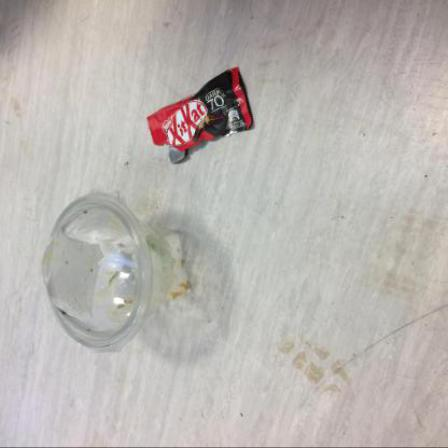Plastic bag - wrapper: (149, 69, 253, 165)
Plastic container: (43, 191, 190, 355)
